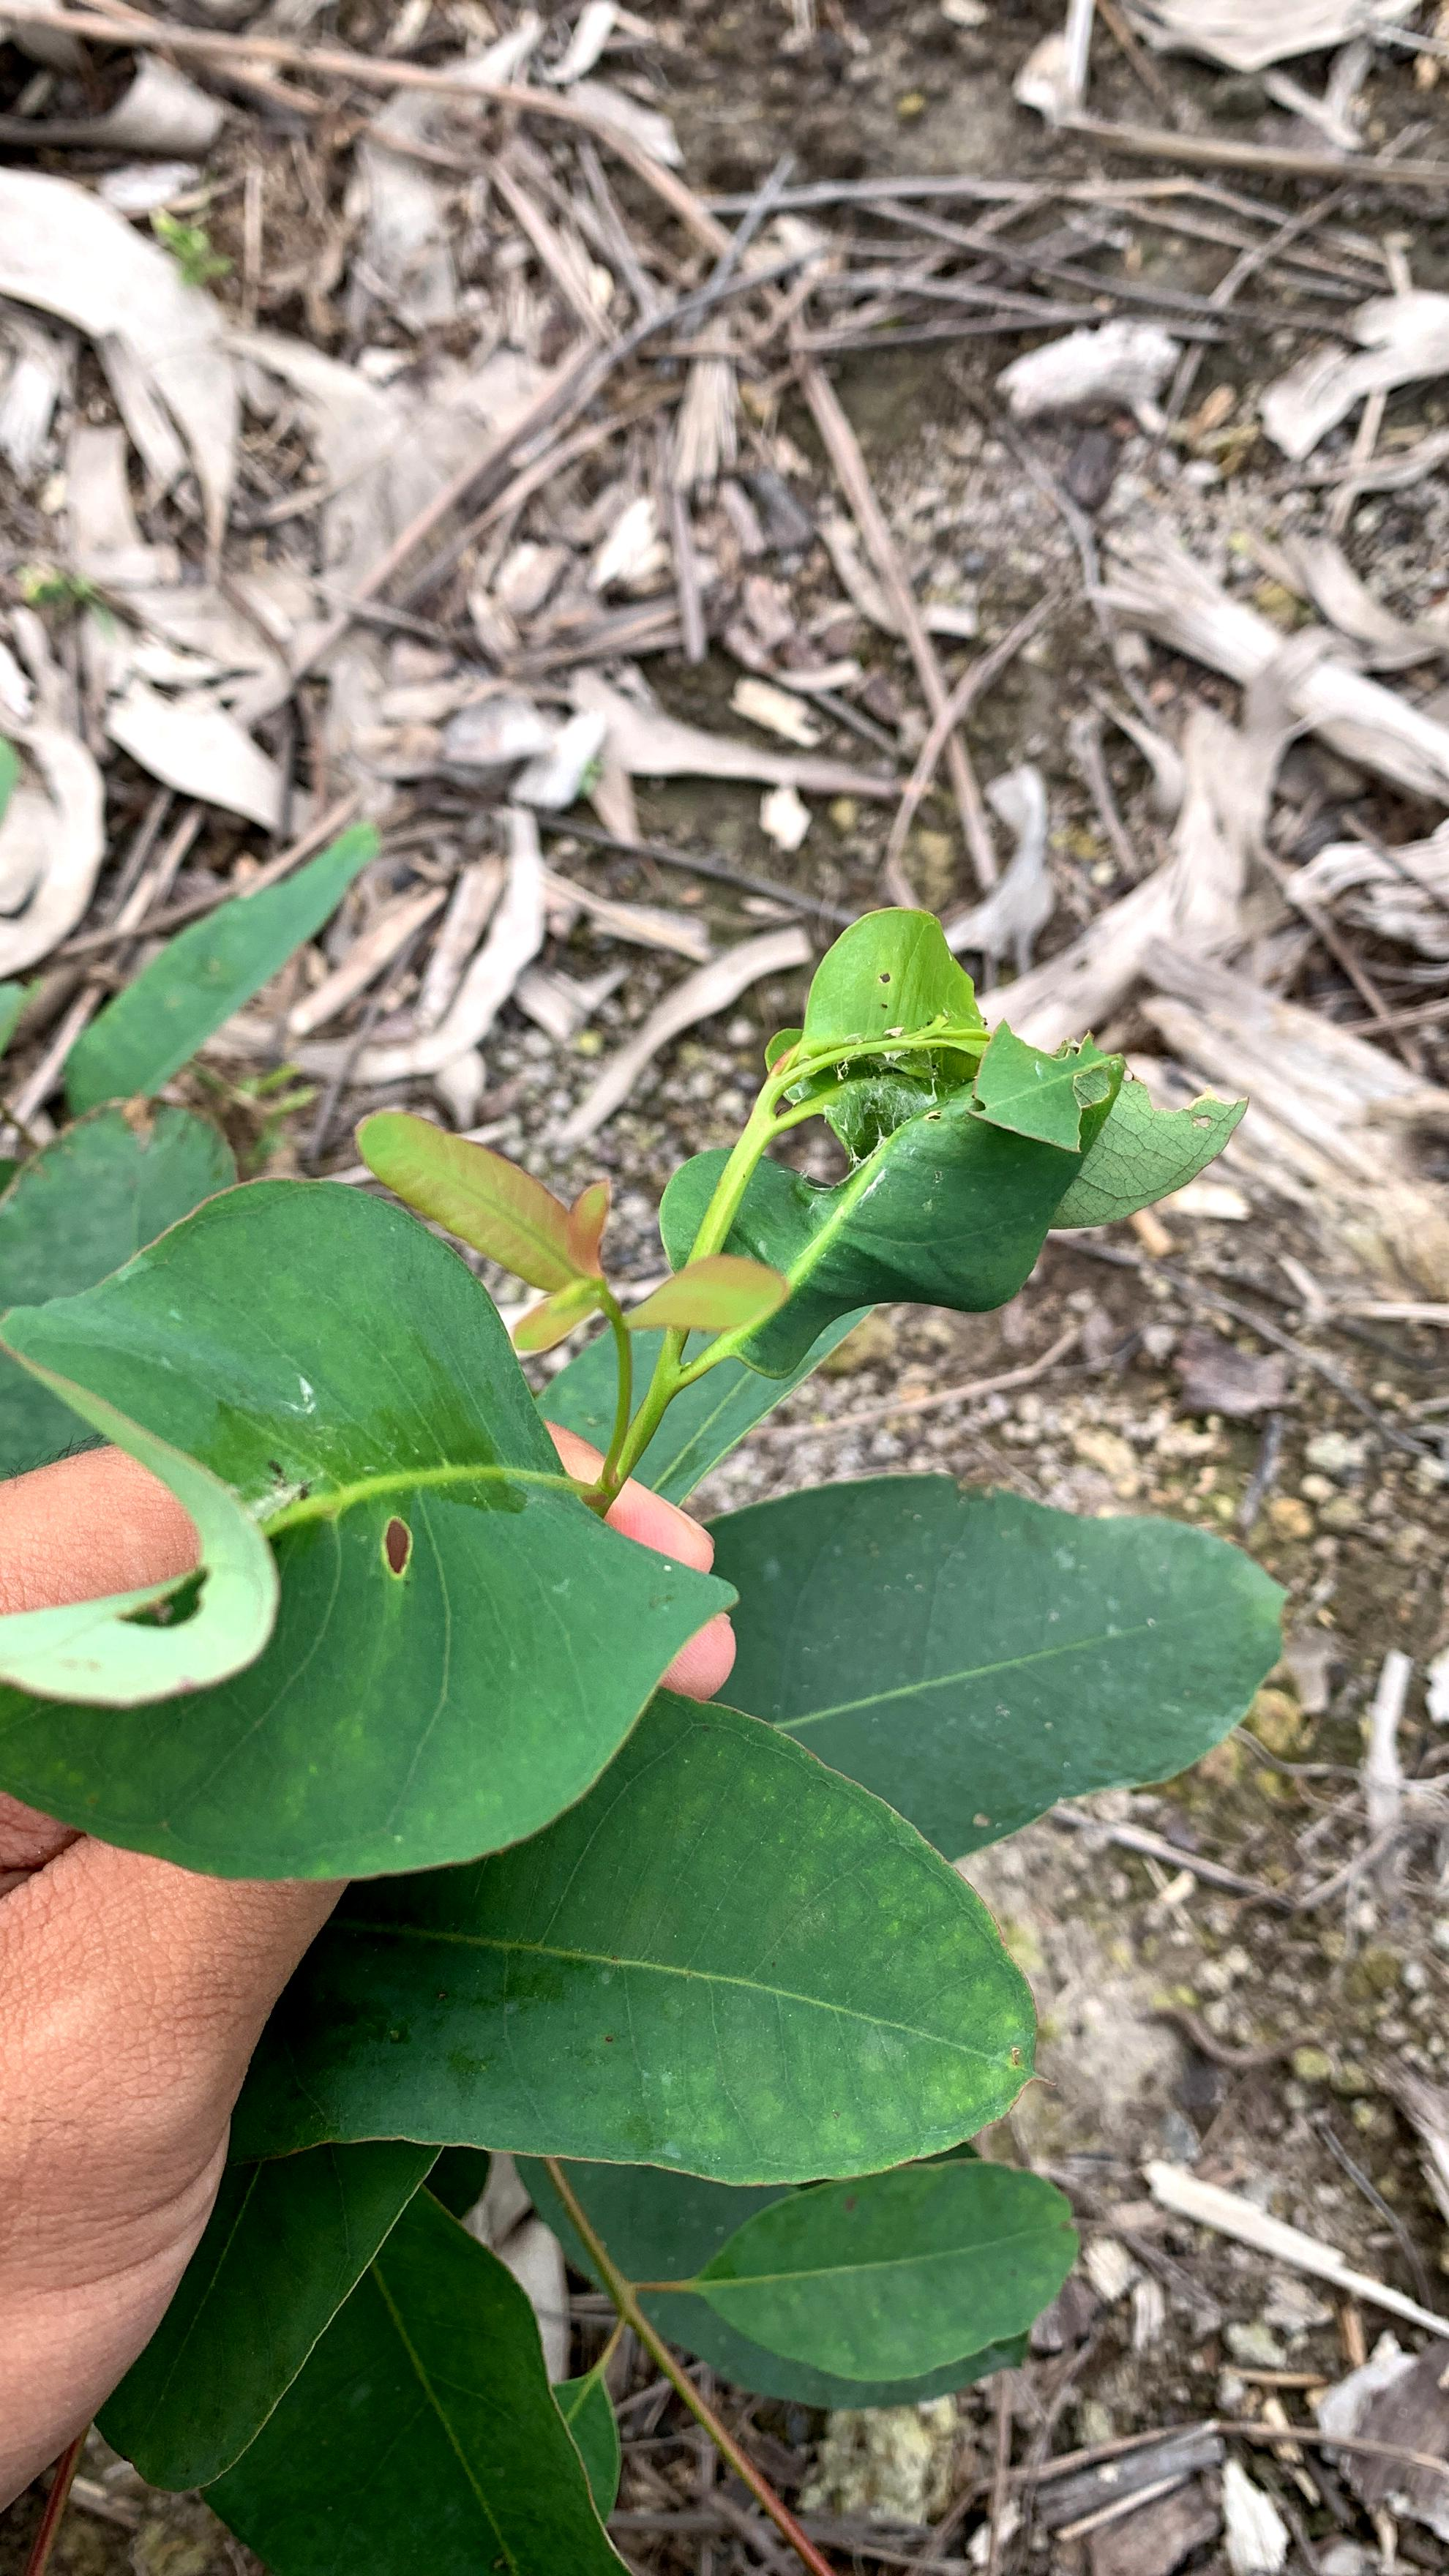Leaf Roller - Leaf: (704, 835, 1180, 1401)
